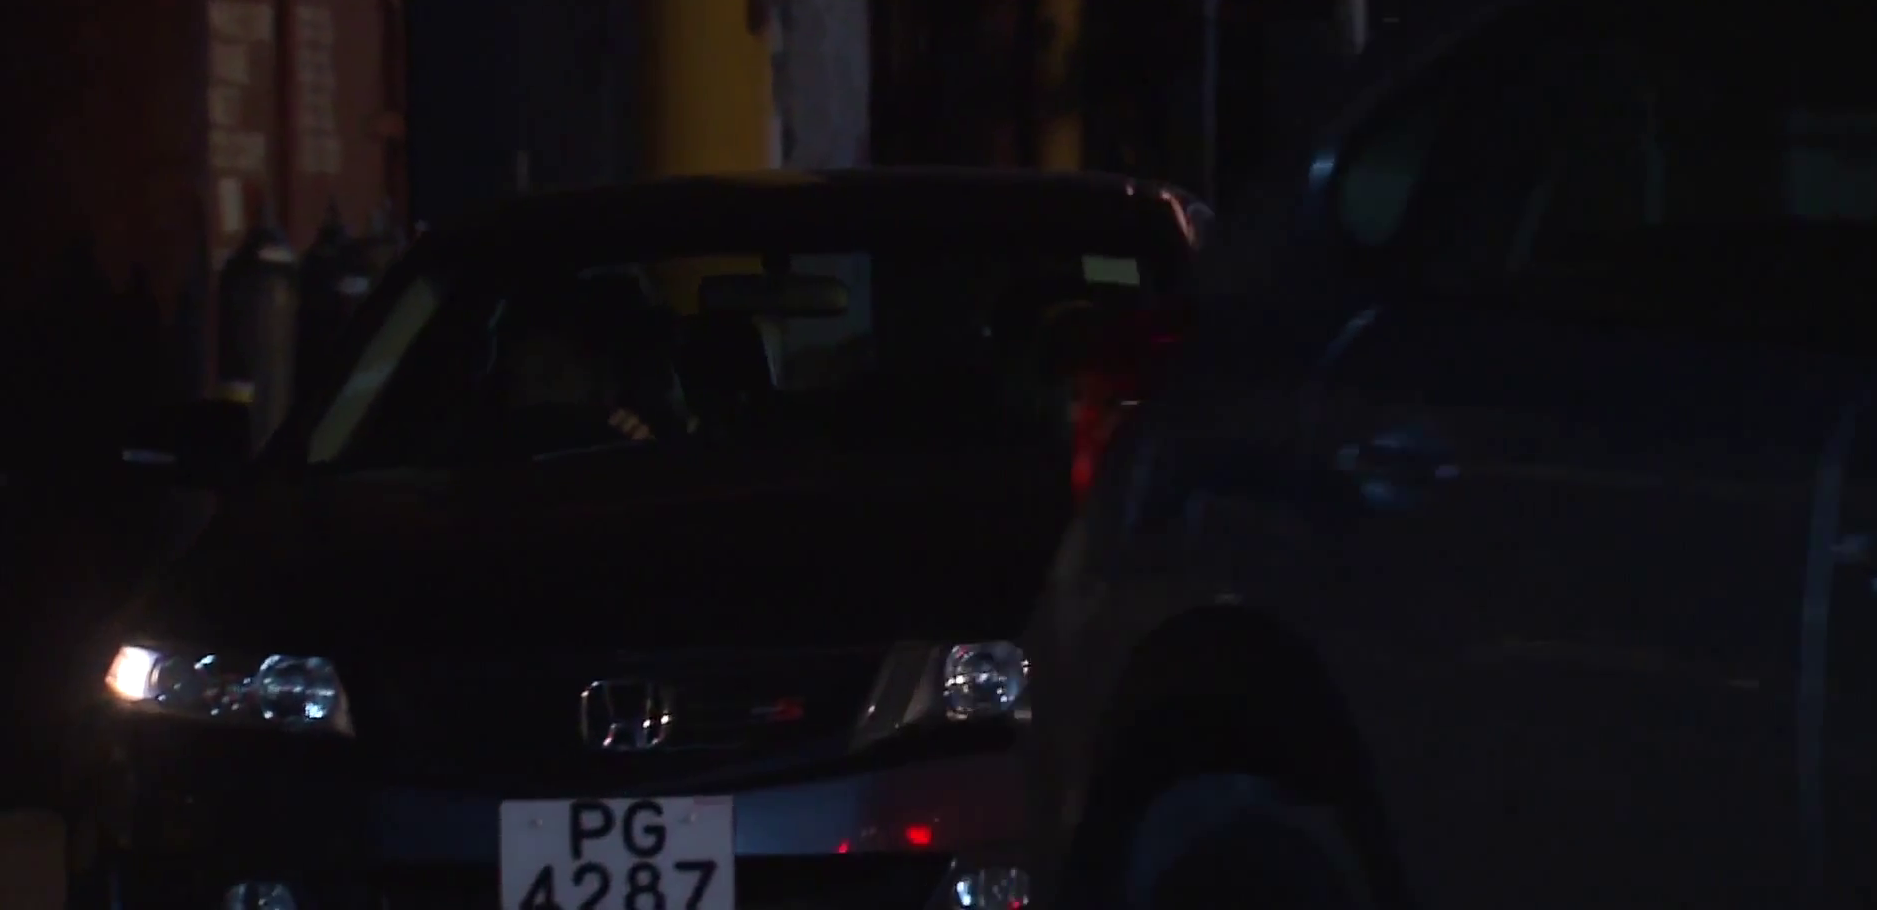car: (59, 154, 1265, 904)
